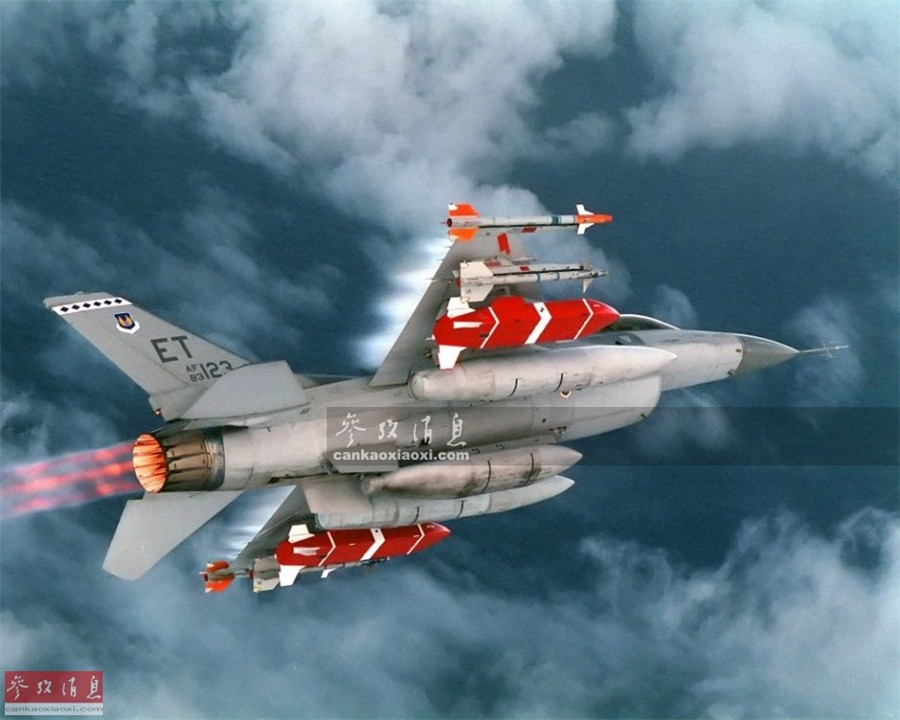airplane: (31, 206, 828, 597)
